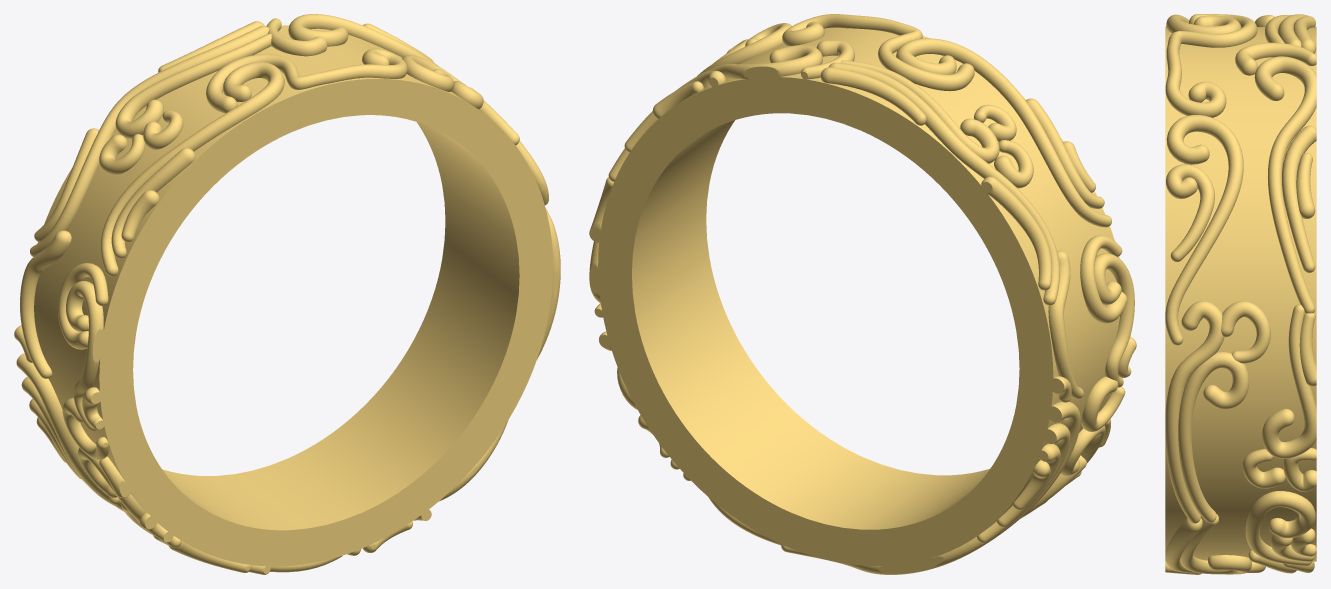
Rendered from DanYGoceanswirls_blender.glb.
3 renders of one model, left to right at view 1: azimuth 30°, elevation 25°; view 2: azimuth 150°, elevation 25°; view 3: azimuth 270°, elevation 25°, orthographic. The views are drawn at different scales.
Visible parts, largest first — view 1: Dan YG base for 3d model, Dan YG pipes for 3d model; view 2: Dan YG base for 3d model, Dan YG pipes for 3d model; view 3: Dan YG pipes for 3d model, Dan YG base for 3d model.
Boxes of the visible parts, left/top/right/bottom form: Dan YG base for 3d model: left=34, top=25, right=553, bottom=566; Dan YG pipes for 3d model: left=14, top=14, right=560, bottom=574; Dan YG base for 3d model: left=598, top=27, right=1119, bottom=565; Dan YG pipes for 3d model: left=589, top=14, right=1136, bottom=574; Dan YG pipes for 3d model: left=1165, top=14, right=1316, bottom=574; Dan YG base for 3d model: left=1165, top=27, right=1316, bottom=561.
Size of the model in its own units: 22.65 by 22.63 by 6.1.
